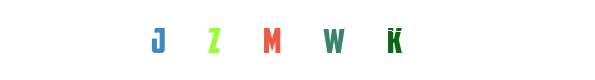J: (174, 0, 254, 80)
K: (353, 0, 433, 80)
M: (231, 0, 311, 80)
W: (257, 0, 337, 80)
Z: (228, 0, 308, 80)
